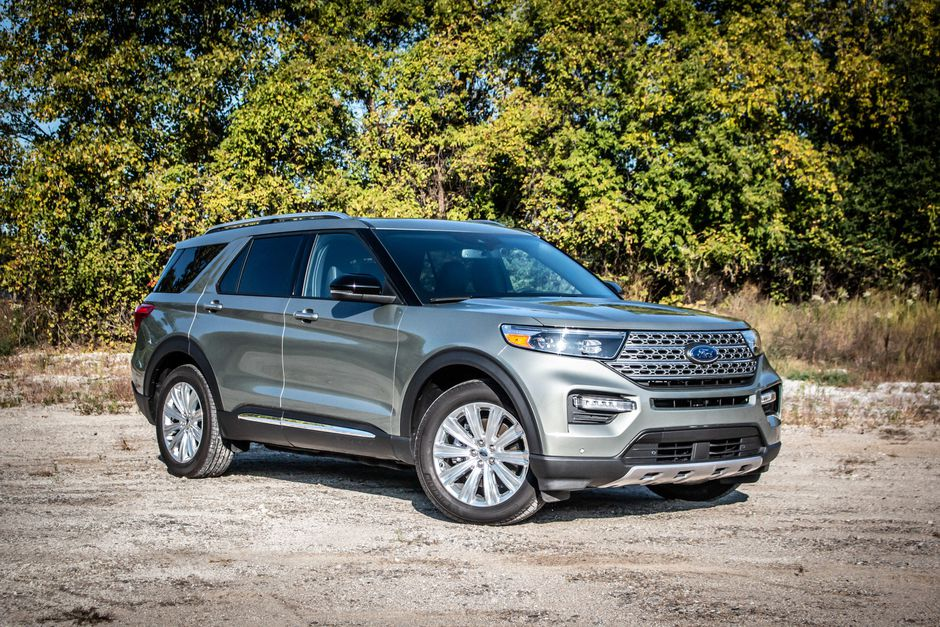car: (129, 212, 785, 527)
